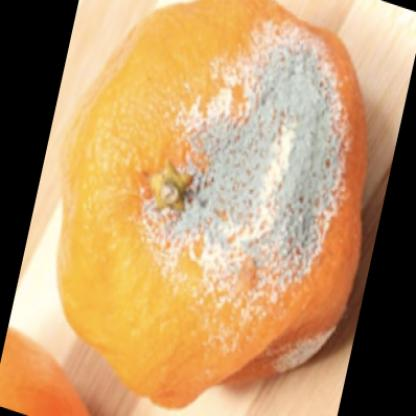rotten: (55, 1, 364, 413)
